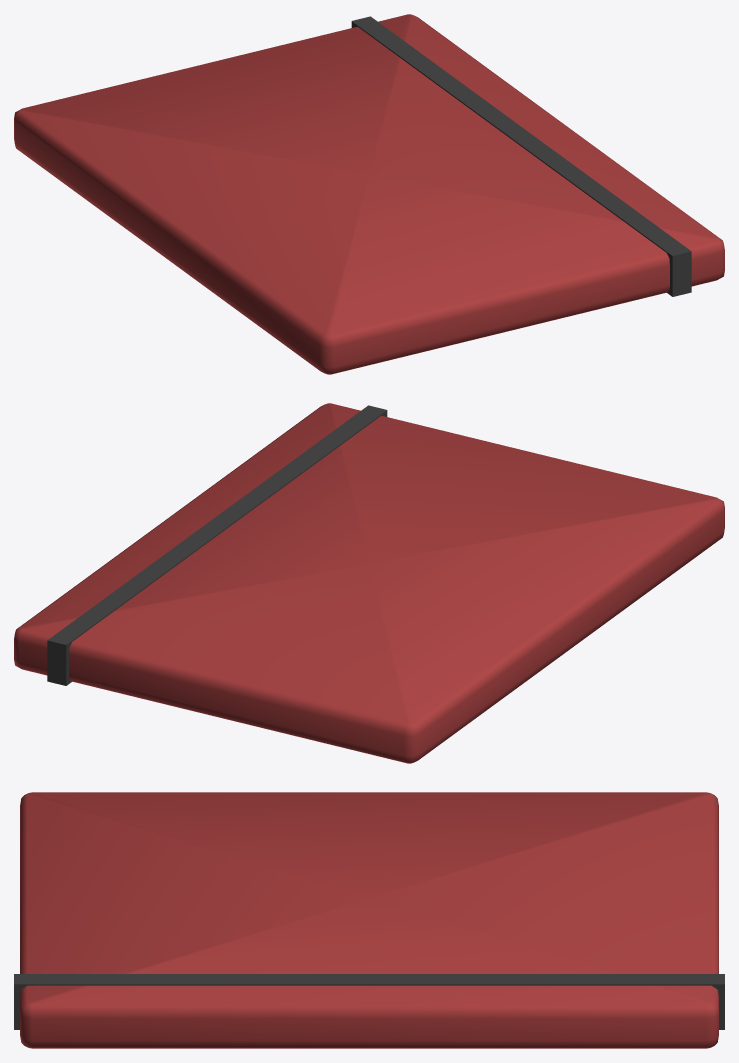
The model's file is notebook.glb.
3 views of the same model, one above another, from view 1: azimuth 30°, elevation 25°; view 2: azimuth 150°, elevation 25°; view 3: azimuth 270°, elevation 25° (orthographic). The views are drawn at different scales.
Parts seen in each view (by area): view 1: Notebook; view 2: Notebook; view 3: Notebook.
Boxes of the visible parts, <box> form: Notebook: <box>14,14,724,374</box>; Notebook: <box>14,403,724,763</box>; Notebook: <box>14,792,724,1048</box>.
Bounding box in the file's own units: 0.17 × 0.0165 × 0.234.
